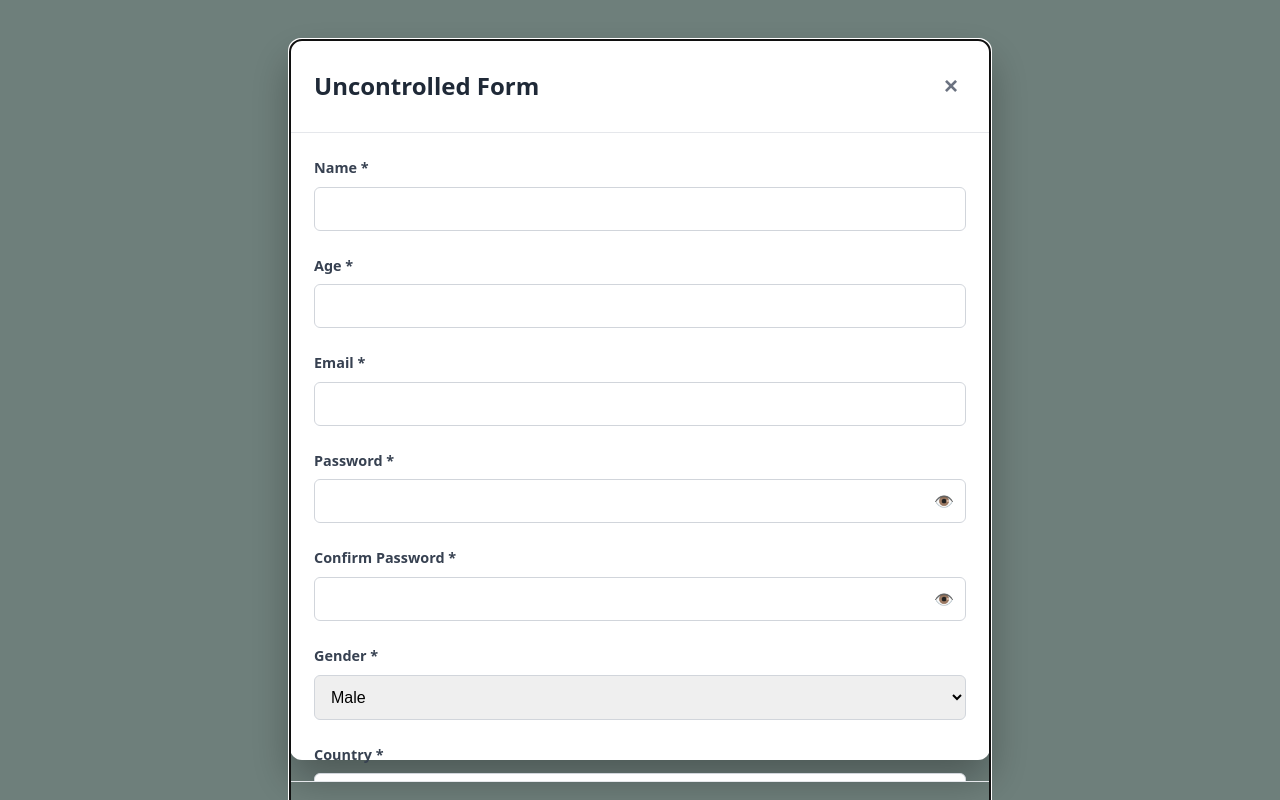
Test case: UncontrolledForm Component › Field Validation › should validate password strength
Type "weak" into the password field labelled "Password *". click: [640, 501]
box: [314,479,966,523]
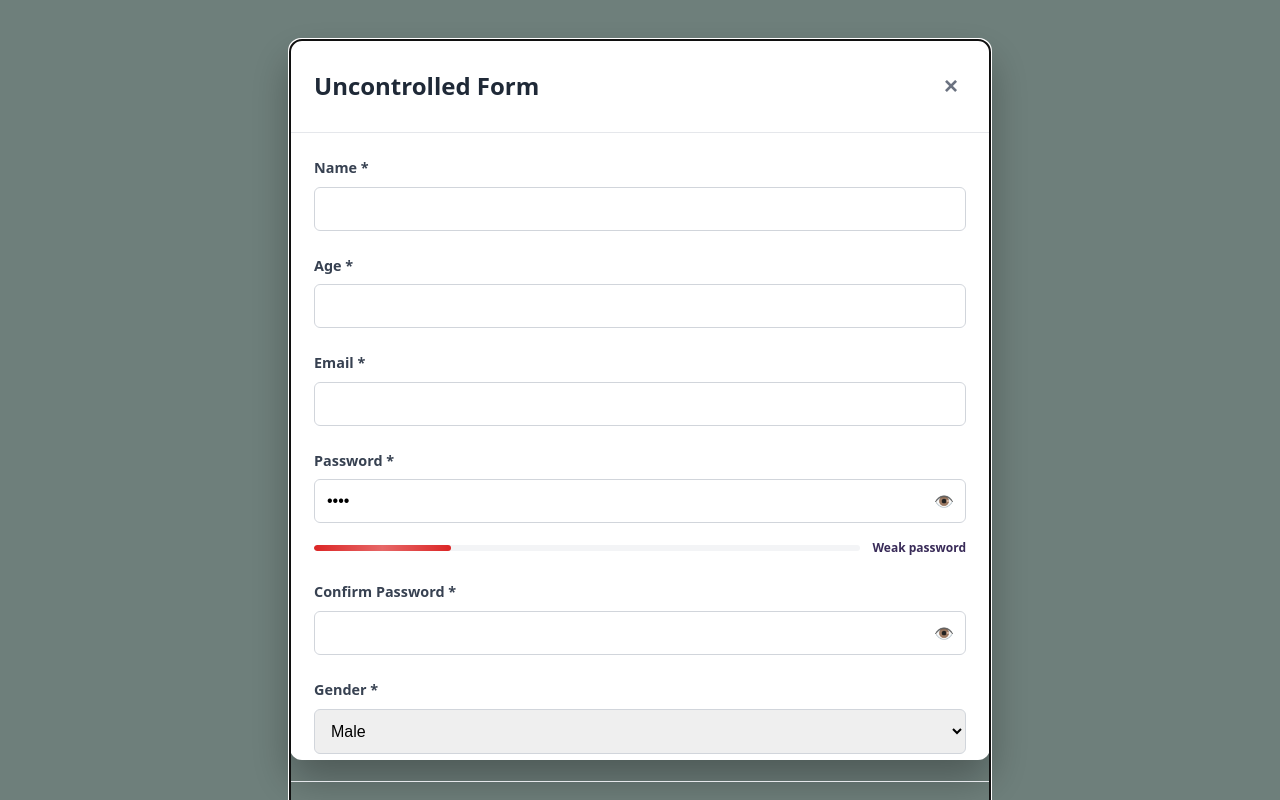
Result: the text "Weak password" is shown at [872,539,966,557]
Type "StrongP@ss123" into the password field labelled "Password *". click: [640, 501]
box: [314,479,966,523]
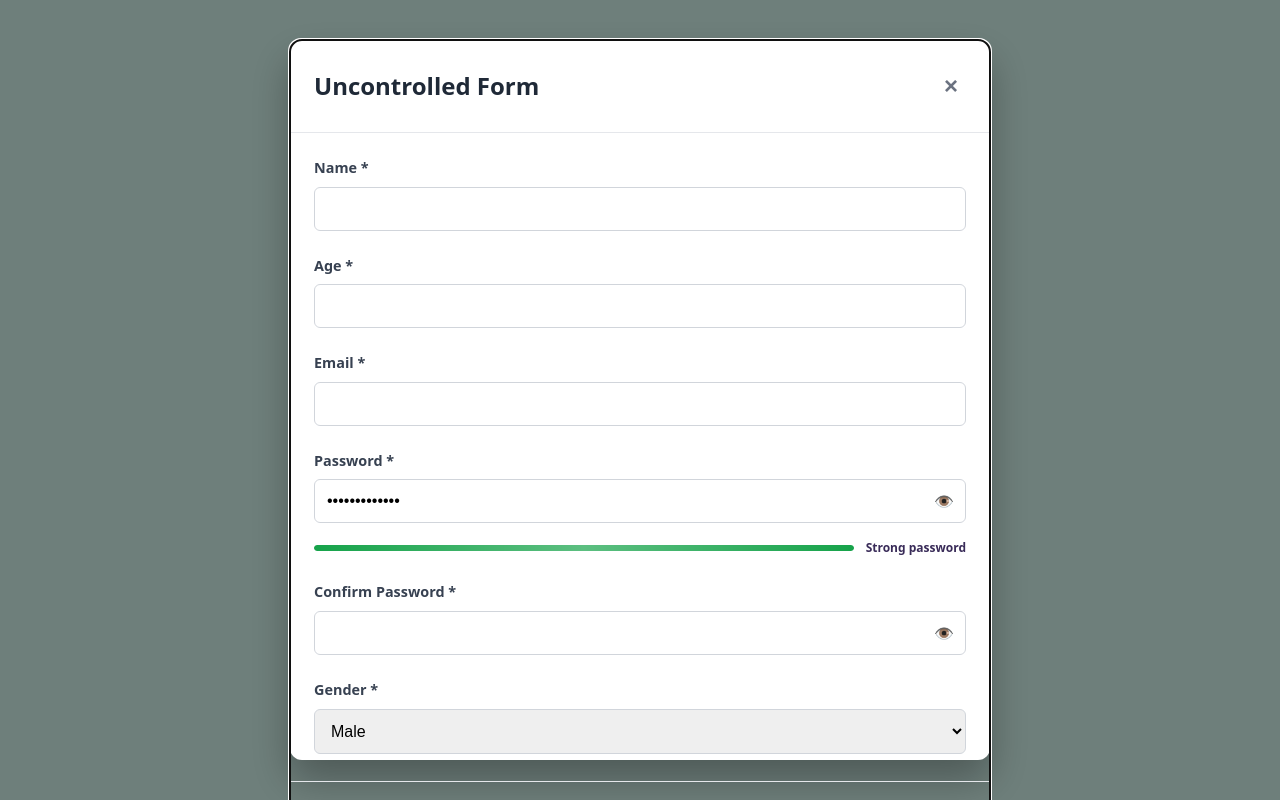
Result: the text "Strong password" is shown at [866,539,966,557]
